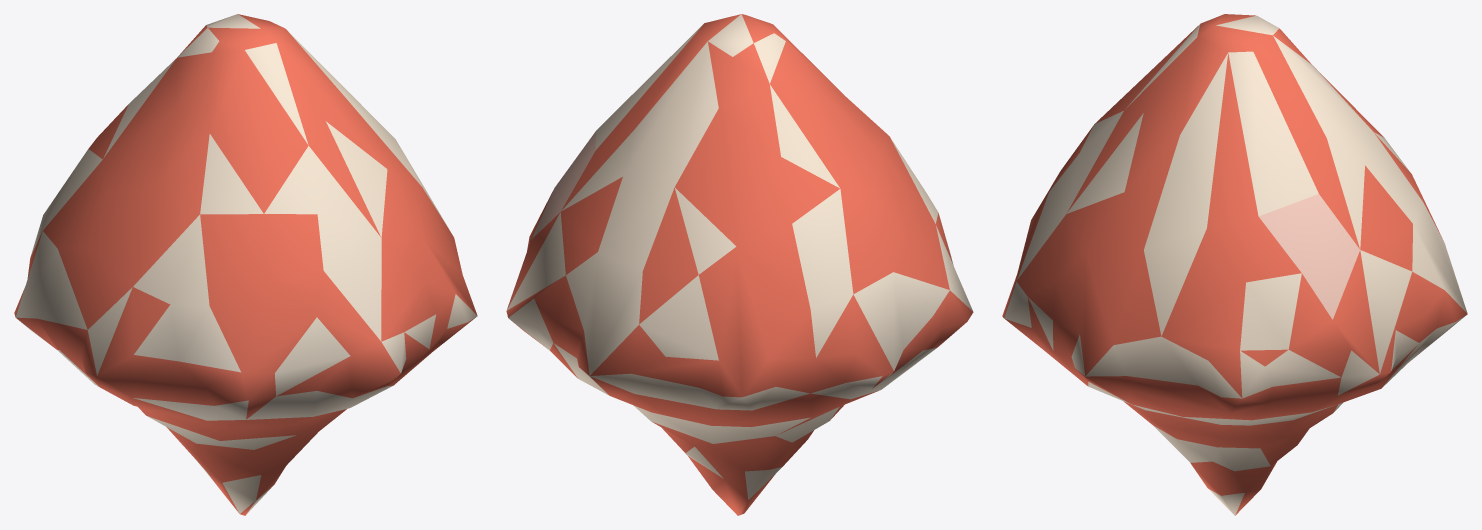
Rendered from shore_player_shell_lod2.glb.
3 renders of one model, left to right at view 1: azimuth 30°, elevation 25°; view 2: azimuth 150°, elevation 25°; view 3: azimuth 270°, elevation 25°, orthographic.
Visible parts, largest first — view 1: shore_player_shell.001; view 2: shore_player_shell.001; view 3: shore_player_shell.001.
Part boxes in pixels (x1,y1,x2,y2): shore_player_shell.001: (14, 14, 477, 515); shore_player_shell.001: (506, 14, 973, 515); shore_player_shell.001: (1002, 14, 1467, 515).
Bounding box in the file's own units: 1.23 × 1.45 × 1.24.
